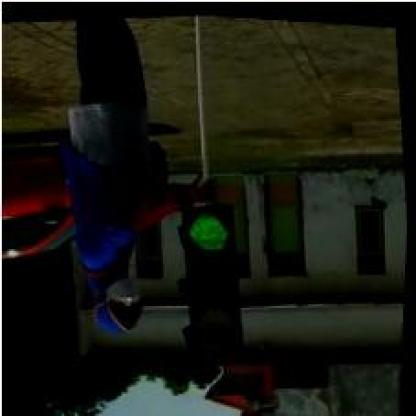green: (173, 200, 252, 356)
